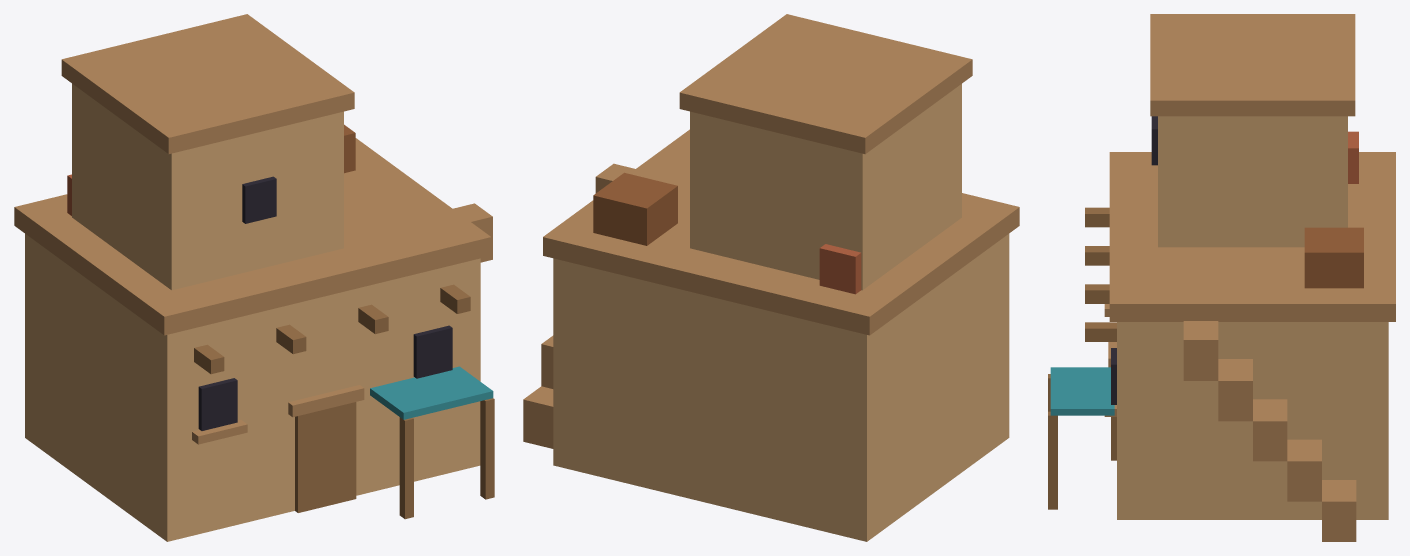
The model's file is AdobeHouseBig.glb.
The picture shows the model from 3 angles, left to right: view 1: azimuth 30°, elevation 25°; view 2: azimuth 150°, elevation 25°; view 3: azimuth 270°, elevation 25°; orthographic projection. The views are drawn at different scales.
Visible parts, largest first — view 1: AdobeHouseBig; view 2: AdobeHouseBig; view 3: AdobeHouseBig.
Boxes of the visible parts, <box> form: AdobeHouseBig: <box>14,14,494,541</box>; AdobeHouseBig: <box>523,14,1019,541</box>; AdobeHouseBig: <box>1048,14,1395,541</box>.
Size of the model in its own units: 16.4 by 16.5 by 14.1.
Materials: 1 (1 with a texture image).
